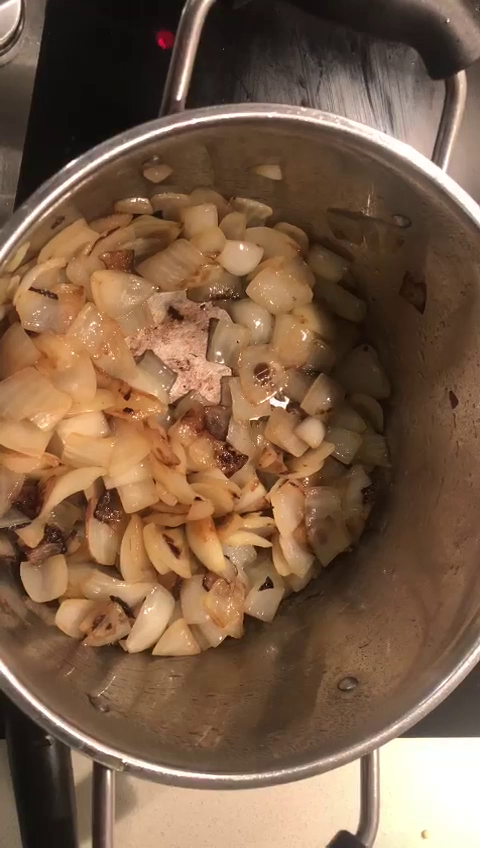Cooked: (33, 250, 353, 565)
